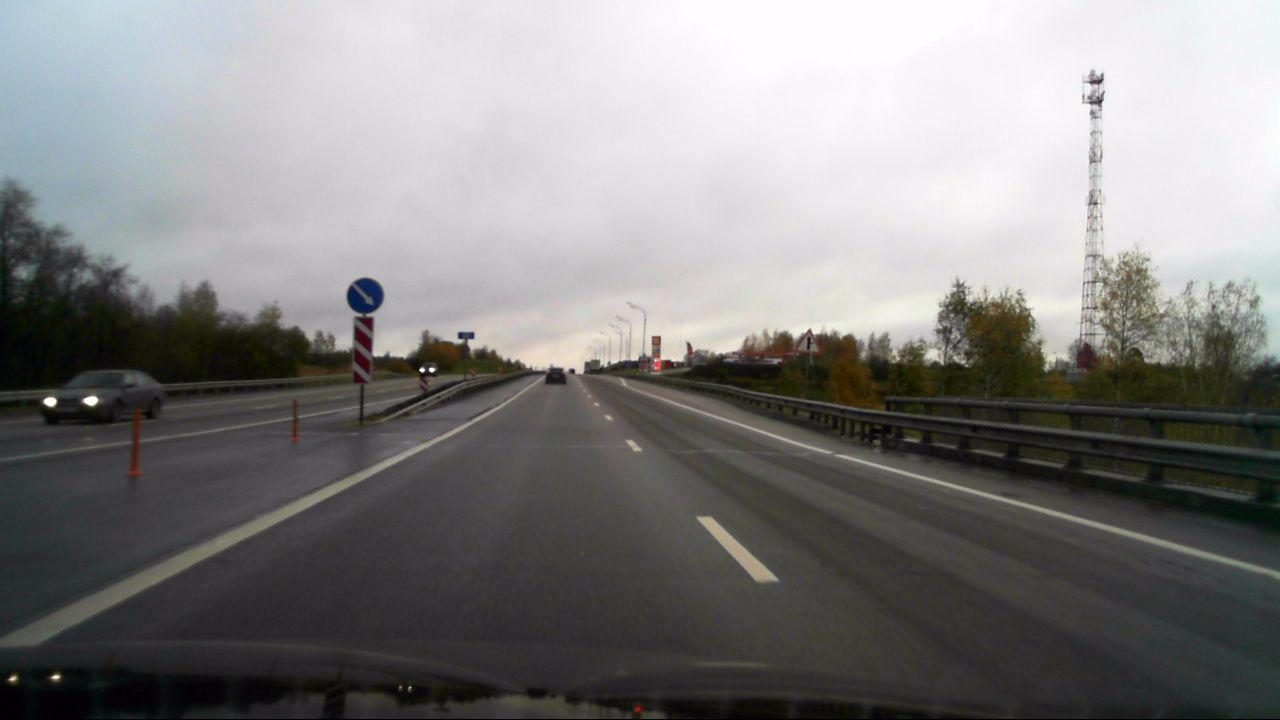2_3_2: (796, 327, 821, 355)
4_2_1: (346, 276, 383, 312)
8_22_1: (353, 314, 373, 386)
